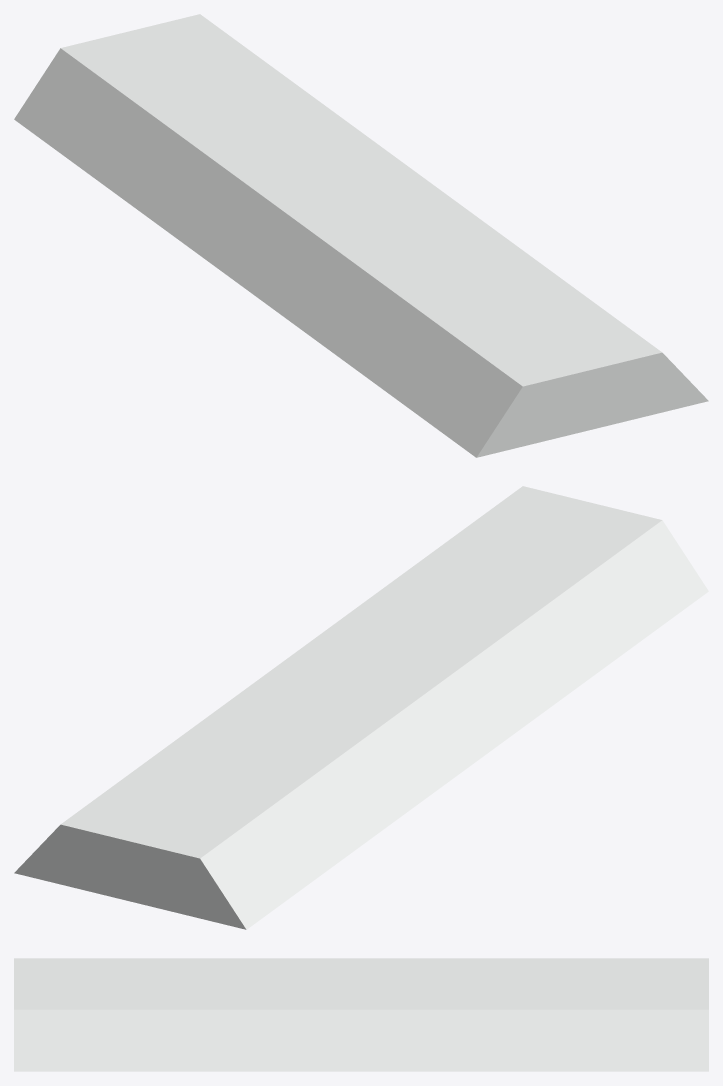
File: LabLight.fbx
The picture shows the model from 3 angles, top to bottom: view 1: azimuth 30°, elevation 25°; view 2: azimuth 150°, elevation 25°; view 3: azimuth 270°, elevation 25°; orthographic projection. The views are drawn at different scales.
Visible parts, largest first — view 1: LabLight; view 2: LabLight; view 3: LabLight.
Part boxes in pixels (left/top/right/bottom): LabLight: left=14, top=14, right=708, bottom=457; LabLight: left=14, top=486, right=708, bottom=929; LabLight: left=14, top=958, right=708, bottom=1071.
Size of the model in its own units: 1.35 by 0.3331 by 4.66.
Materials: 1 (1 with a texture image).
